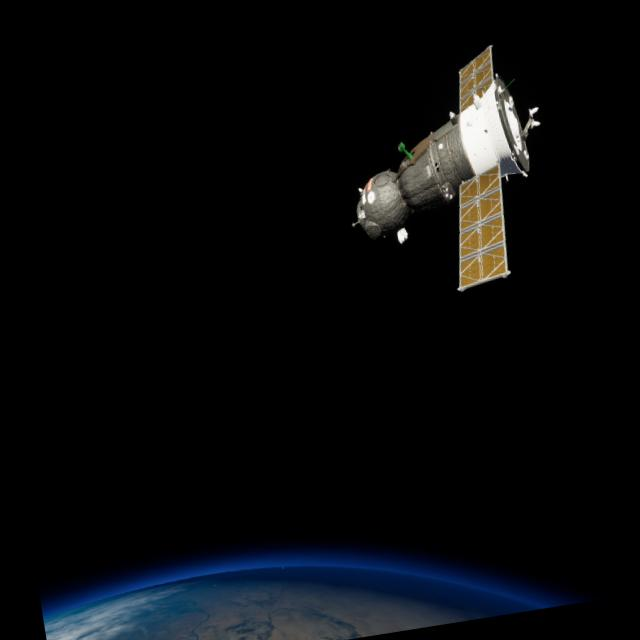Satellites revolving around earth: (327, 36, 568, 310)
